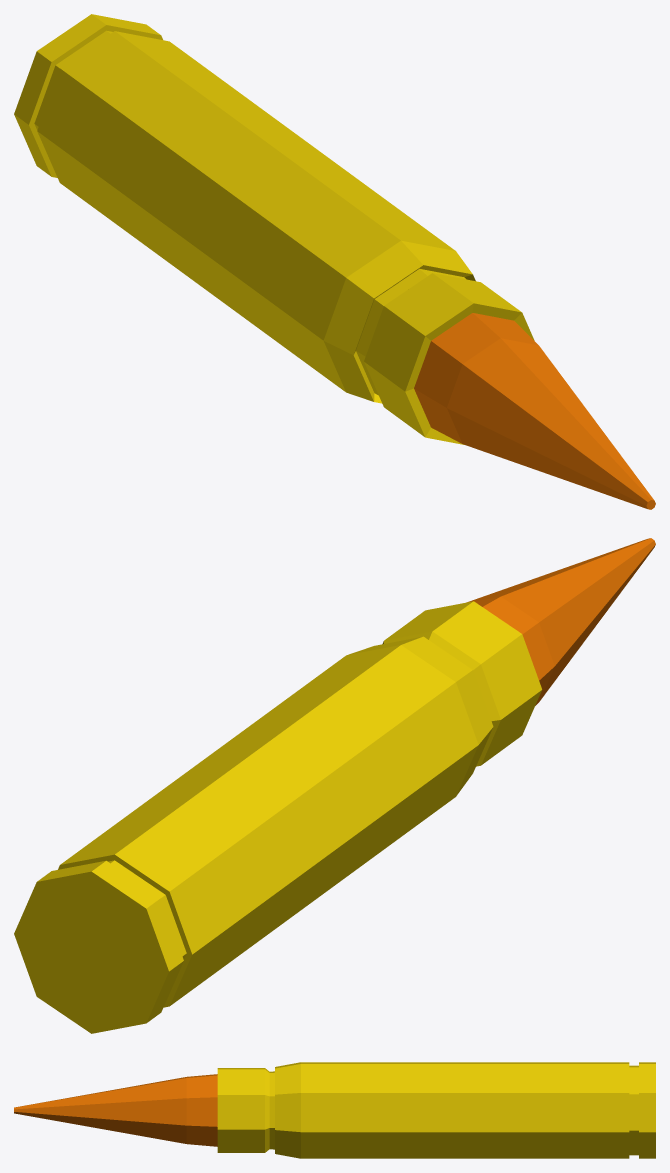
File: tiro2.fbx
3 renders of one model, top to bottom at view 1: azimuth 30°, elevation 25°; view 2: azimuth 150°, elevation 25°; view 3: azimuth 270°, elevation 25°, orthographic. The views are drawn at different scales.
Parts seen in each view (by area): view 1: Cylinder; view 2: Cylinder; view 3: Cylinder.
Boxes of the visible parts, left/top/right/bottom form: Cylinder: left=14, top=14, right=655, bottom=509; Cylinder: left=14, top=538, right=655, bottom=1033; Cylinder: left=14, top=1062, right=655, bottom=1158.
Bounding box in the file's own units: 200 × 200 × 1250.
